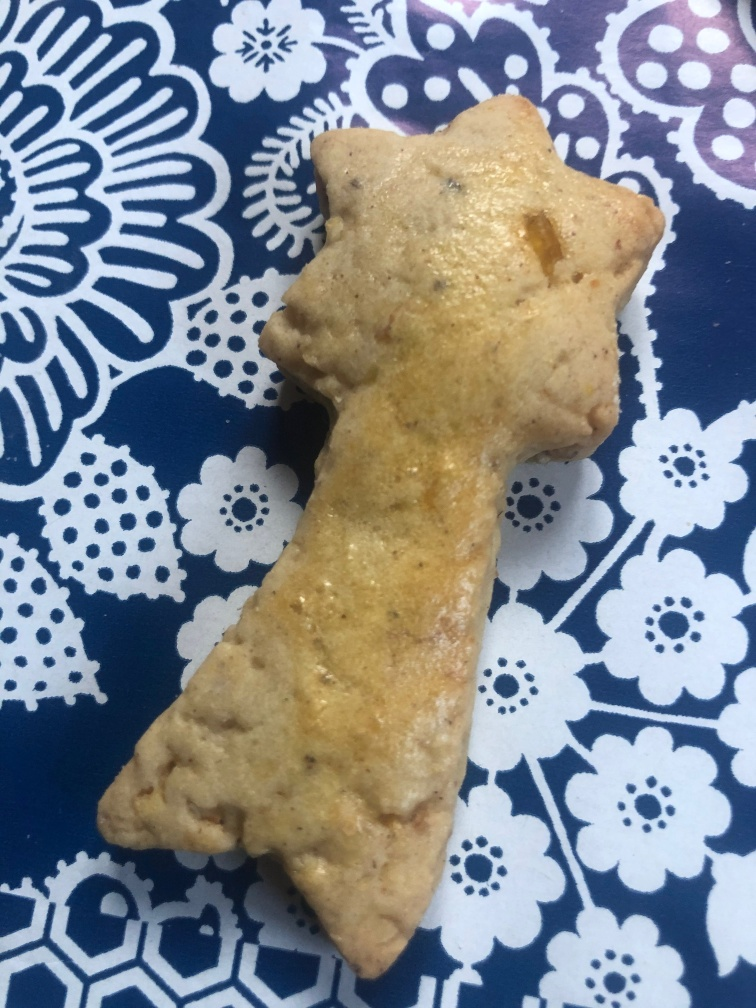shooting star: (93, 76, 667, 1007)
